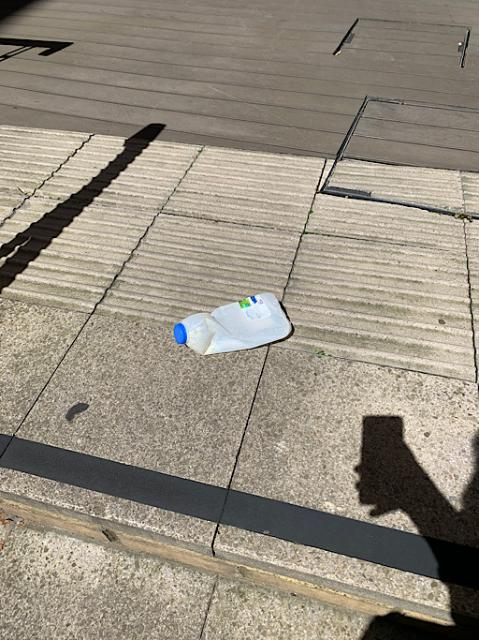plastic: (173, 291, 290, 353)
